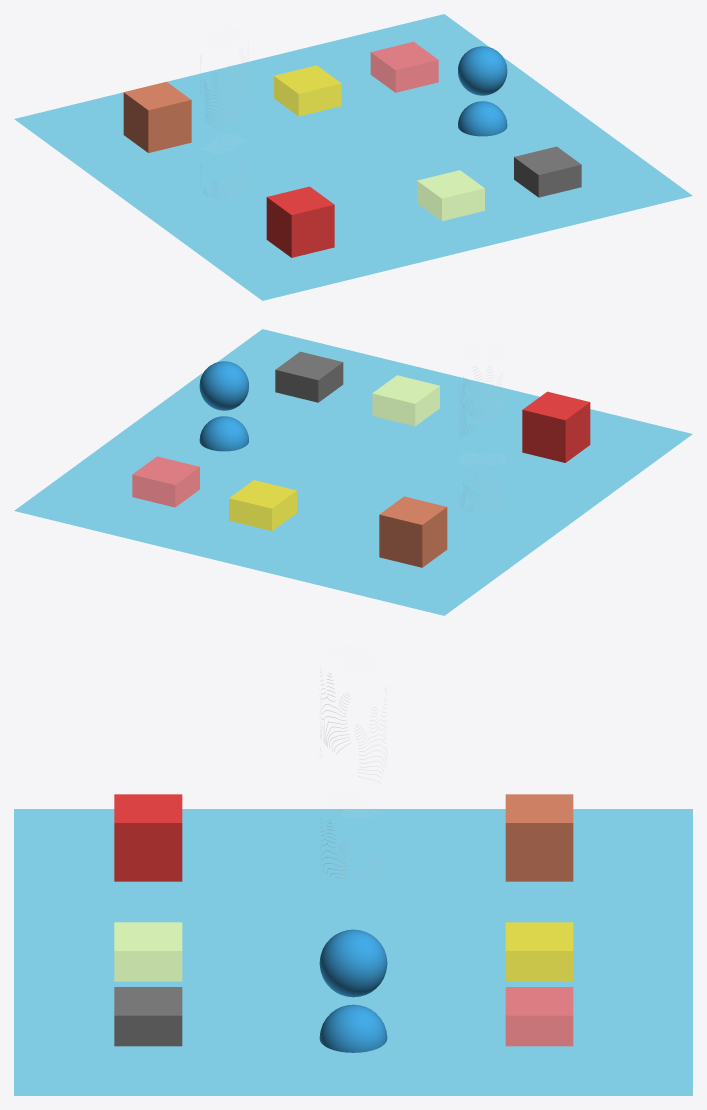
The model's file is Esempio.glb.
The picture shows the model from 3 angles, top to bottom: view 1: azimuth 30°, elevation 25°; view 2: azimuth 150°, elevation 25°; view 3: azimuth 270°, elevation 25°; orthographic projection. The views are drawn at different scales.
Parts seen in each view (by area): view 1: Plane, Cube (3), Cube (6), Cube (5), Cube (4), Cube (2), Cube (1), Sphere (1), Sphere; view 2: Plane, Cube (6), Cube (3), Cube (2), Cube (5), Cube (1), Cube (4), Sphere (1), Sphere; view 3: Plane, Cube (3), Cube (6), Cube (1), Cube (4), Cube (2), Cube (5), Sphere (1), Sphere.
Boxes of the visible parts, x1=… form: Plane: x1=14, y1=14, x2=692, y2=300; Cube (3): x1=266, y1=186, x2=334, y2=257; Cube (6): x1=123, y1=81, x2=191, y2=152; Cube (5): x1=370, y1=41, x2=438, y2=92; Cube (4): x1=274, y1=65, x2=341, y2=116; Cube (2): x1=514, y1=146, x2=581, y2=197; Cube (1): x1=417, y1=170, x2=484, y2=221; Sphere (1): x1=458, y1=46, x2=507, y2=95; Sphere: x1=458, y1=101, x2=507, y2=136; Plane: x1=14, y1=329, x2=692, y2=615; Cube (6): x1=379, y1=496, x2=447, y2=567; Cube (3): x1=522, y1=391, x2=590, y2=462; Cube (2): x1=275, y1=351, x2=343, y2=402; Cube (5): x1=132, y1=456, x2=199, y2=507; Cube (1): x1=372, y1=375, x2=439, y2=426; Cube (4): x1=229, y1=480, x2=296, y2=530; Sphere (1): x1=199, y1=361, x2=248, y2=410; Sphere: x1=199, y1=416, x2=248, y2=451; Plane: x1=14, y1=809, x2=692, y2=1095; Cube (3): x1=114, y1=794, x2=182, y2=881; Cube (6): x1=505, y1=794, x2=573, y2=881; Cube (1): x1=114, y1=922, x2=182, y2=981; Cube (4): x1=505, y1=922, x2=573, y2=981; Cube (2): x1=114, y1=987, x2=182, y2=1046; Cube (5): x1=505, y1=987, x2=573, y2=1046; Sphere (1): x1=319, y1=929, x2=387, y2=997; Sphere: x1=319, y1=1004, x2=387, y2=1052.
Size of the model in its own units: 10 by 4.38 by 10.
10 materials, 2 textured.
